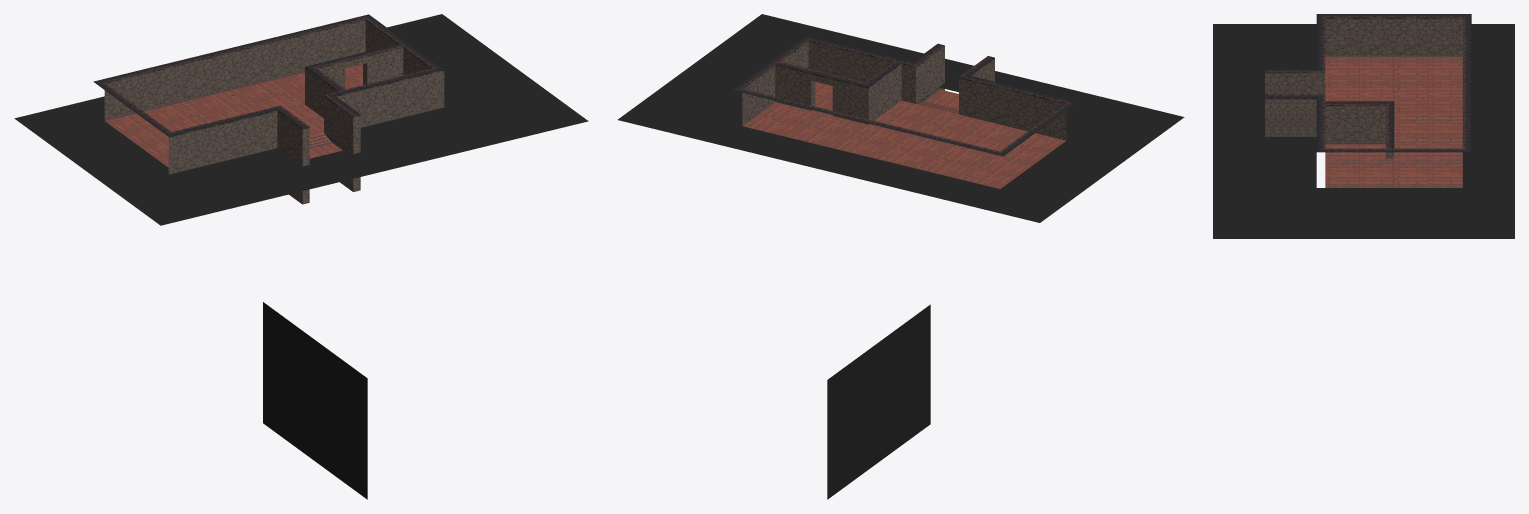
File: AurensHouse.glb
3 renders of one model, left to right at view 1: azimuth 30°, elevation 25°; view 2: azimuth 150°, elevation 25°; view 3: azimuth 270°, elevation 25°, orthographic. The views are drawn at different scales.
Parts seen in each view (by area): view 1: default; view 2: default; view 3: default.
Boxes of the visible parts, box(x1,y1,x2,y2) form: default: box(14, 14, 588, 499); default: box(617, 14, 1184, 499); default: box(1213, 14, 1514, 238).
Bounding box in the file's own units: 59 × 51 × 35.
1 material, 1 textured.
